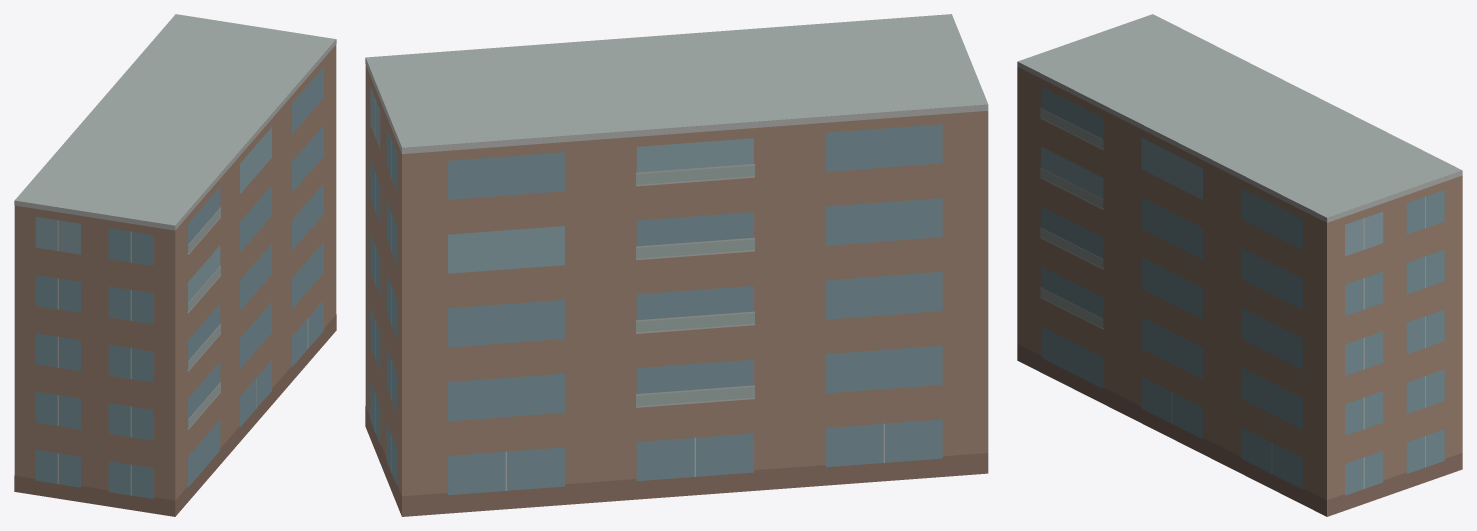
Rendered from survey-upis-32998232.glb.
3 renders of one model, left to right at view 1: azimuth 30°, elevation 25°; view 2: azimuth 150°, elevation 25°; view 3: azimuth 270°, elevation 25°, orthographic. The views are drawn at different scales.
Visible parts, largest first — view 1: survey-upis-32998232.tmp; view 2: survey-upis-32998232.tmp; view 3: survey-upis-32998232.tmp.
Boxes of the visible parts, x1=… form: survey-upis-32998232.tmp: x1=14, y1=14, x2=336, y2=516; survey-upis-32998232.tmp: x1=365, y1=14, x2=988, y2=516; survey-upis-32998232.tmp: x1=1017, y1=14, x2=1462, y2=516.
Bounding box in the file's own units: 20.91 × 14.3 × 19.29.
